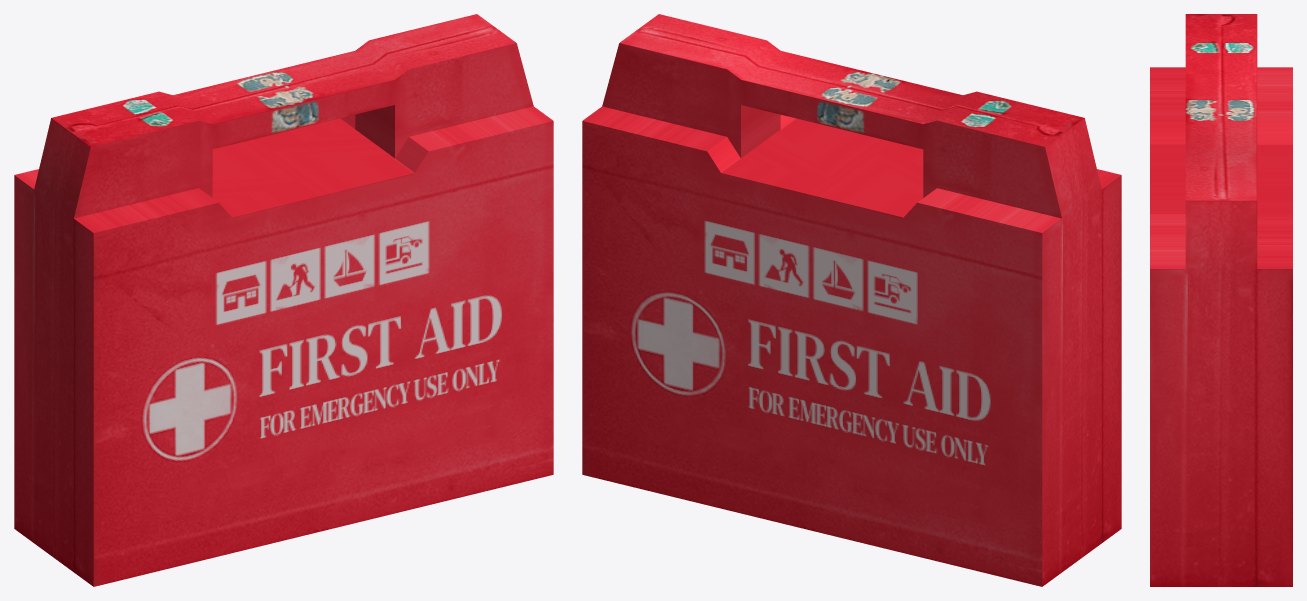
The model's file is FirstAid.obj.
3 renders of one model, left to right at view 1: azimuth 30°, elevation 25°; view 2: azimuth 150°, elevation 25°; view 3: azimuth 270°, elevation 25°, orthographic. The views are drawn at different scales.
Parts seen in each view (by area): view 1: FirstAid; view 2: FirstAid; view 3: FirstAid.
Boxes of the visible parts, left/top/right/bottom form: FirstAid: left=14, top=14, right=553, bottom=586; FirstAid: left=582, top=14, right=1121, bottom=586; FirstAid: left=1150, top=14, right=1292, bottom=586.
Size of the model in its own units: 1.25 by 1.1 by 0.375.
1 material, 1 textured.
